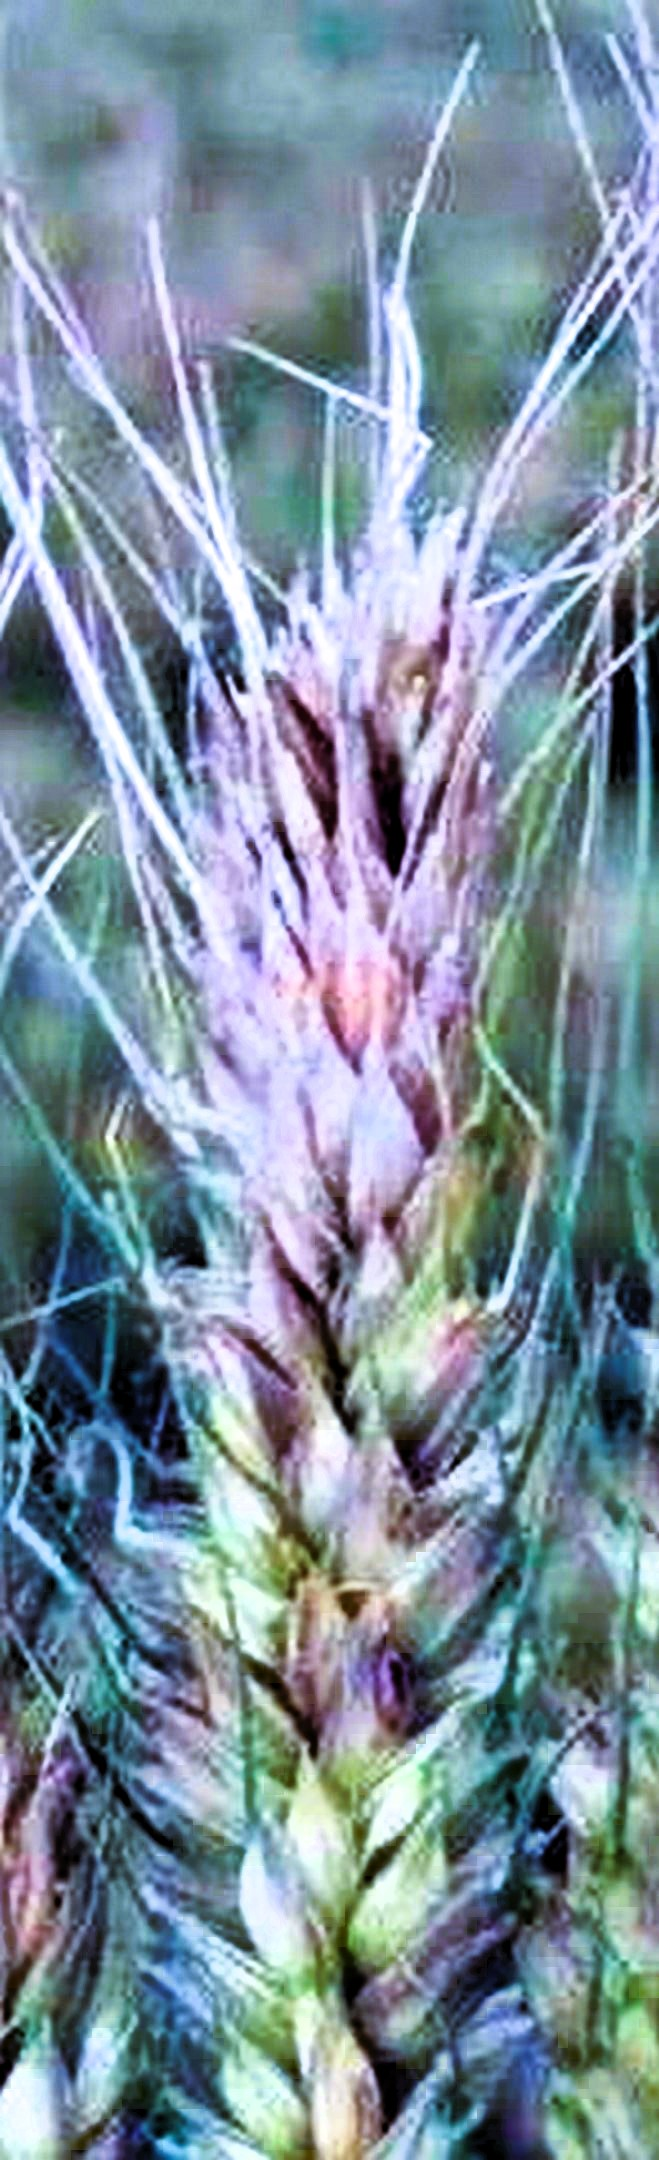Wheat scab: (136, 558, 597, 1751)
